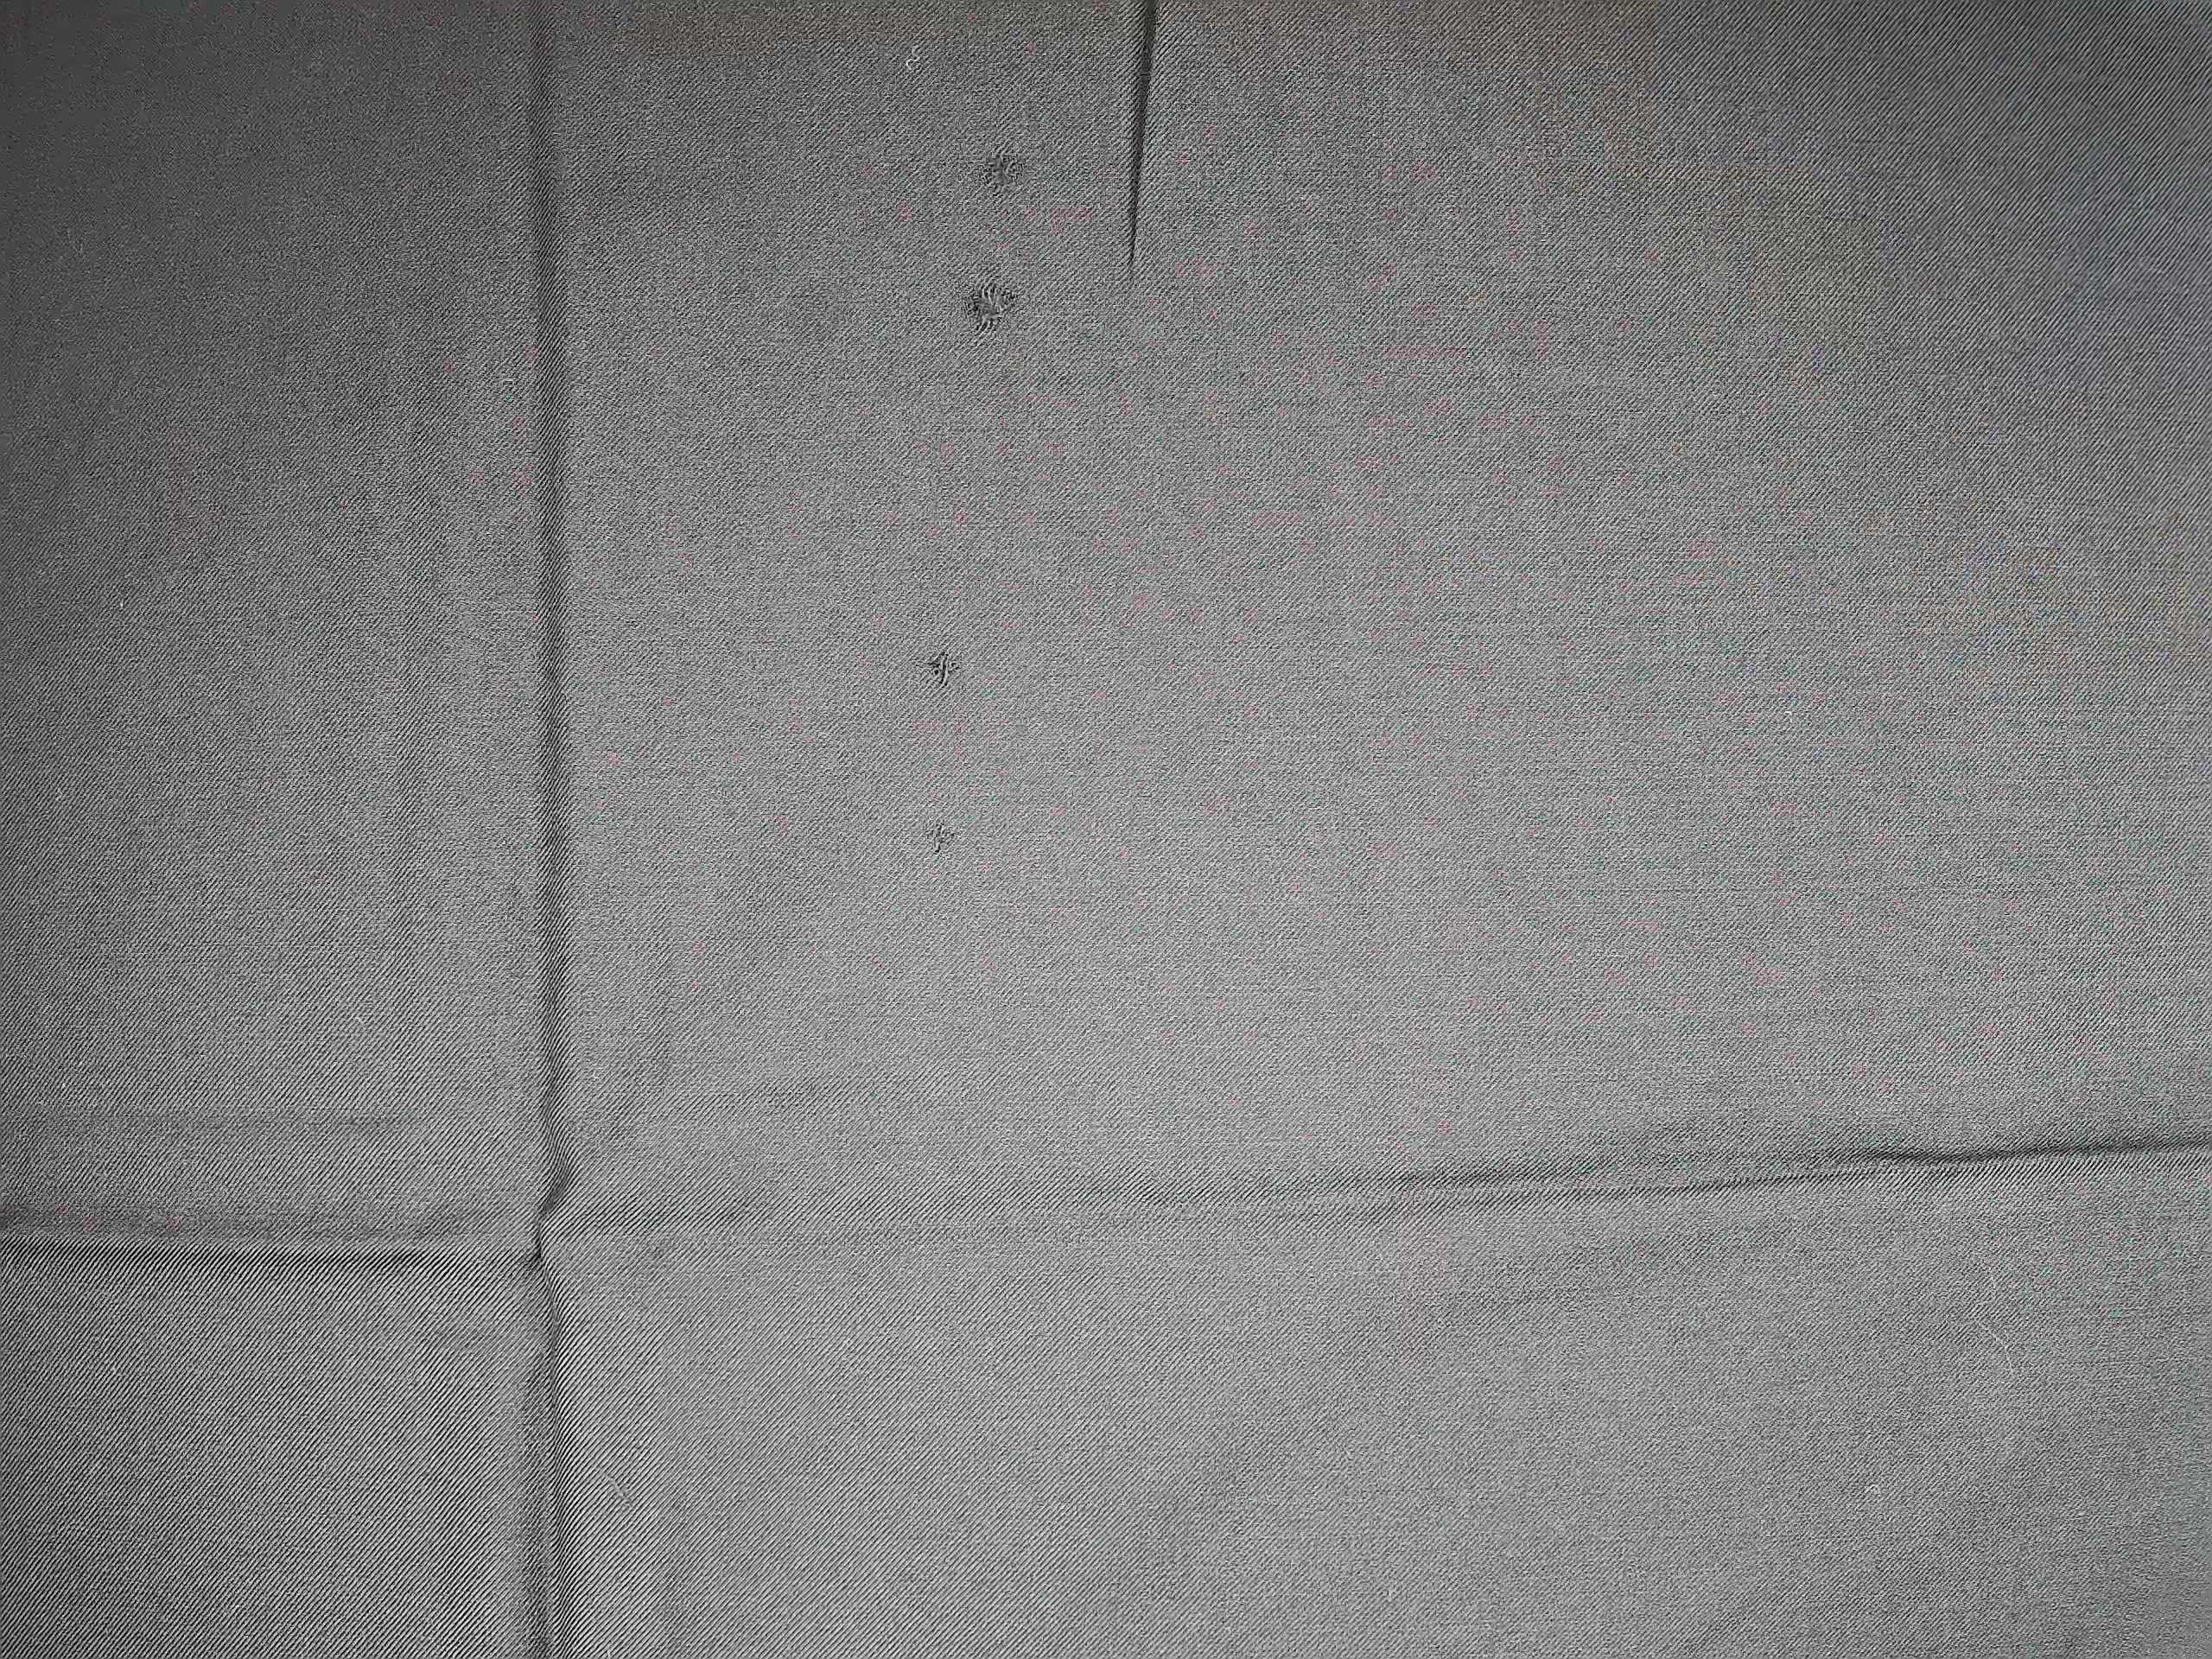rubbing-hole: (961, 118, 1052, 207), (954, 263, 1033, 343), (900, 633, 979, 702), (906, 807, 977, 870)
